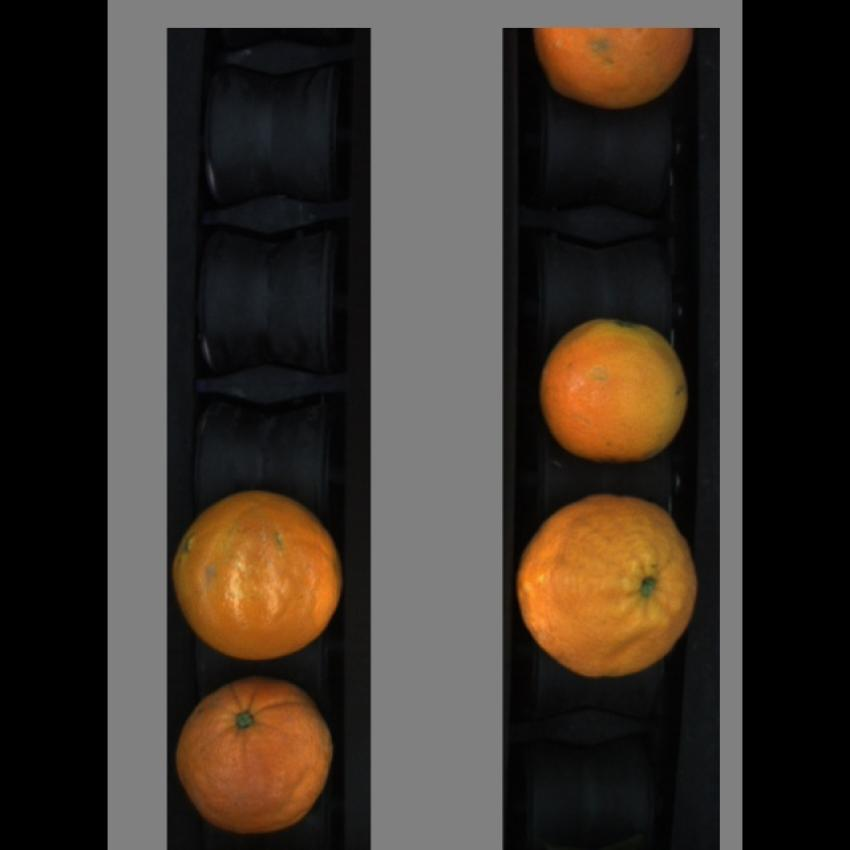Mal estado: (514, 482, 706, 687), (169, 482, 344, 658), (172, 666, 340, 836), (538, 309, 696, 470), (526, 29, 701, 111)
